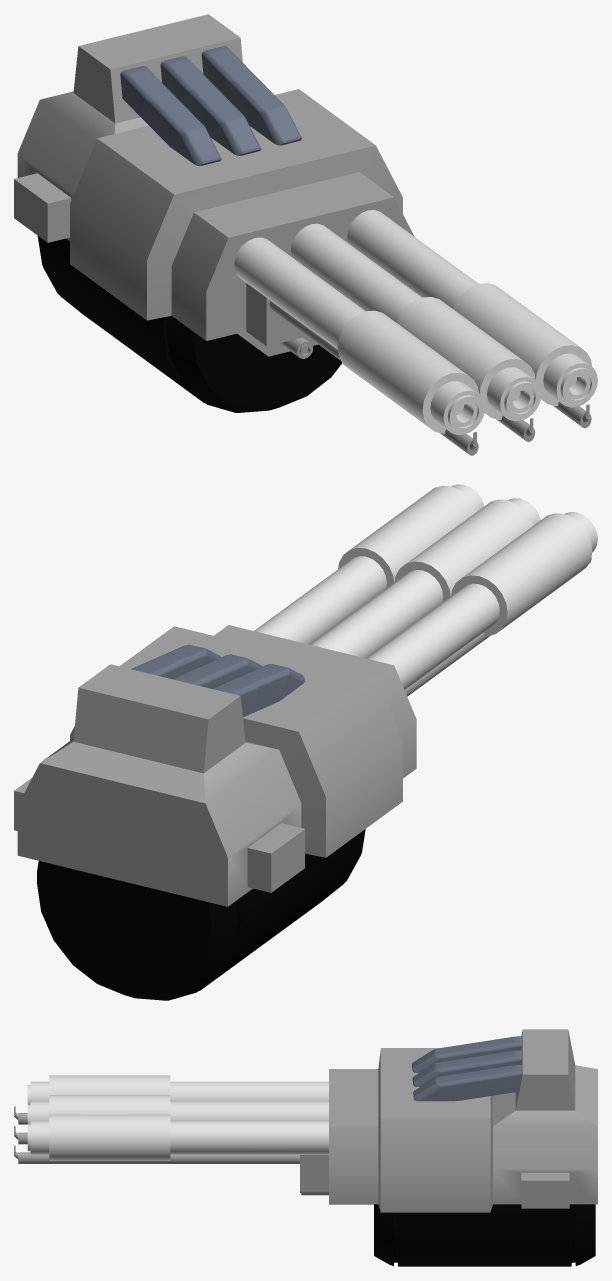
The model's file is flamethrower 1.fbx.
3 views of the same model, one above another, from view 1: azimuth 30°, elevation 25°; view 2: azimuth 150°, elevation 25°; view 3: azimuth 270°, elevation 25° (orthographic). The views are drawn at different scales.
Parts seen in each view (by area): view 1: pCylinder32; view 2: pCylinder32; view 3: pCylinder32.
Boxes of the visible parts, bbox=[...] form: pCylinder32: bbox=[14, 14, 597, 455]; pCylinder32: bbox=[14, 484, 597, 1000]; pCylinder32: bbox=[14, 1029, 597, 1266].
Bounding box in the file's own units: 2.03 × 2.19 × 5.59.
